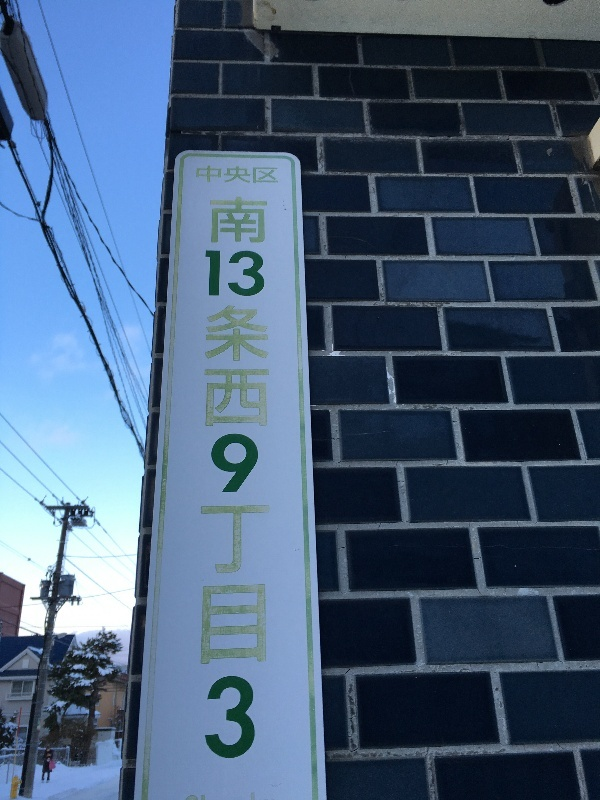text: (209, 196, 224, 762), (225, 196, 240, 762), (241, 196, 256, 762), (257, 196, 270, 762), (206, 196, 208, 762), (209, 166, 224, 186), (225, 166, 240, 186), (241, 166, 256, 186), (257, 166, 272, 186), (197, 166, 208, 186), (273, 166, 278, 186)
